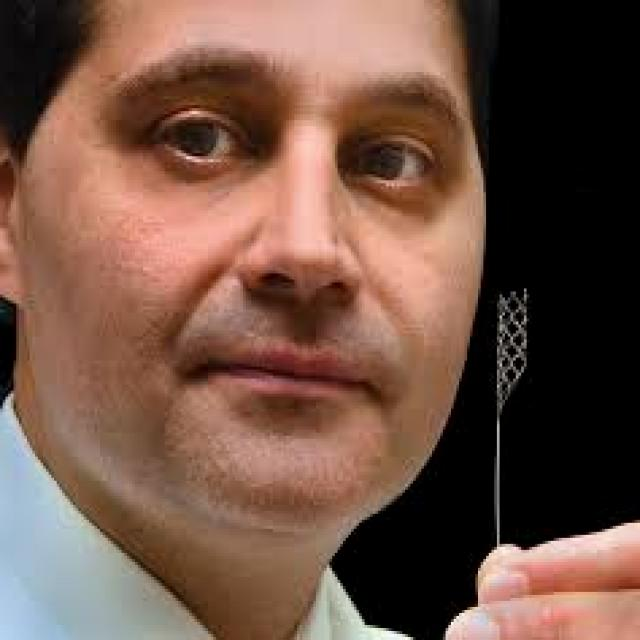normal_face: (1, 4, 490, 544)
